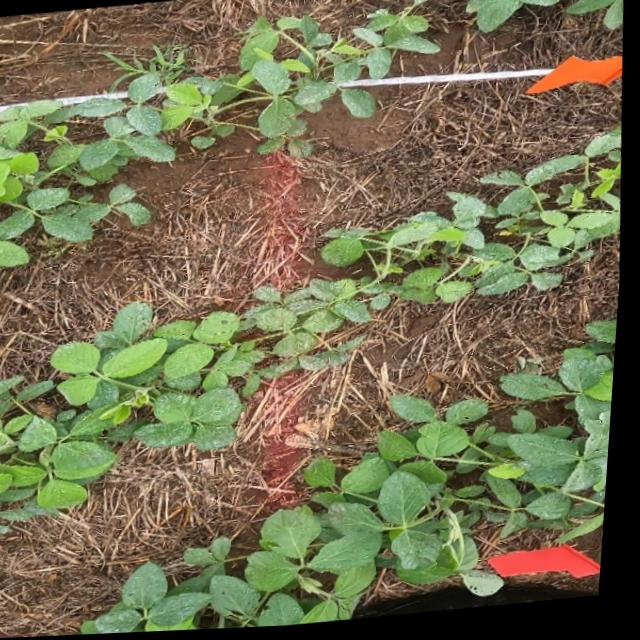grassy_weed: (104, 46, 192, 92)
soy_plant: (0, 133, 624, 532), (90, 327, 622, 636), (0, 0, 450, 264), (468, 0, 562, 35)
